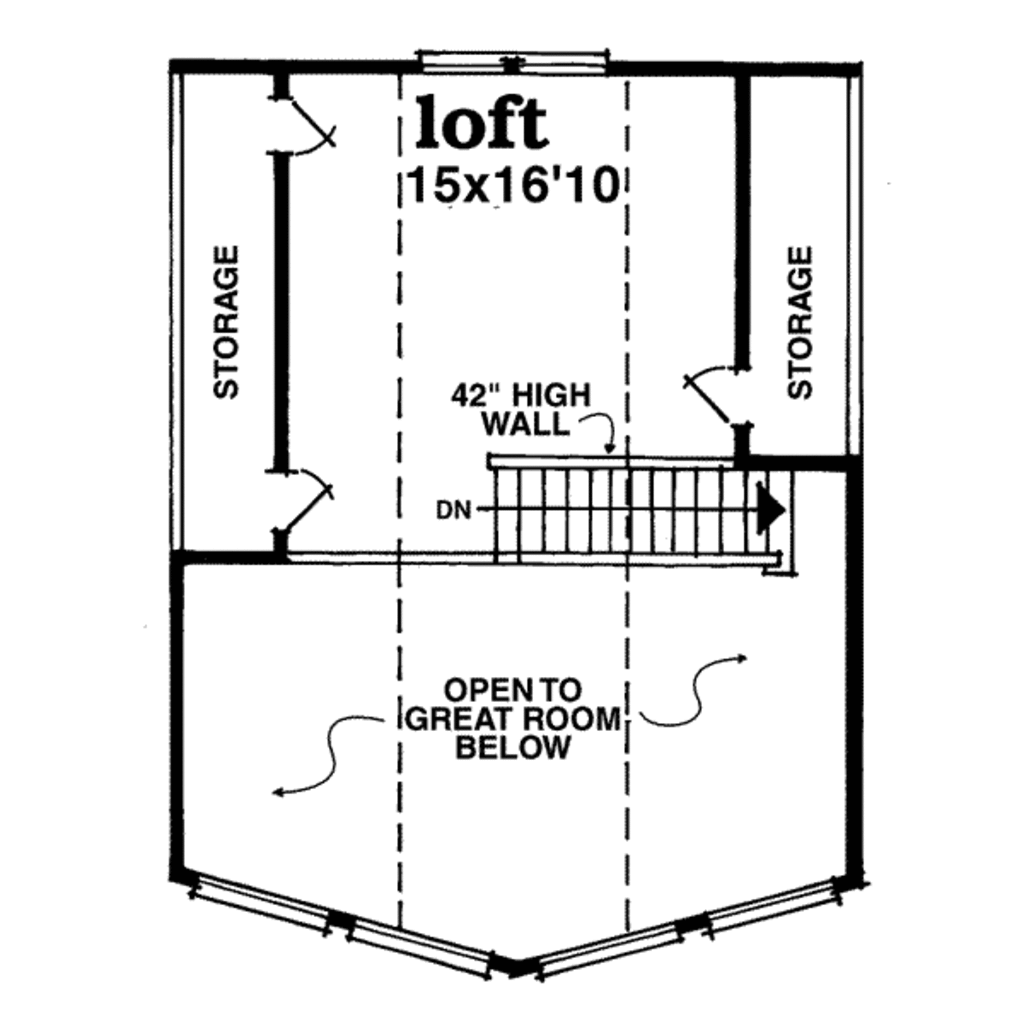door: (680, 352, 753, 438), (261, 457, 338, 530), (263, 91, 336, 166)
stairs: (478, 441, 809, 577)
window: (350, 908, 498, 986), (531, 908, 683, 983), (192, 869, 333, 944), (696, 881, 878, 935), (420, 44, 613, 88)
